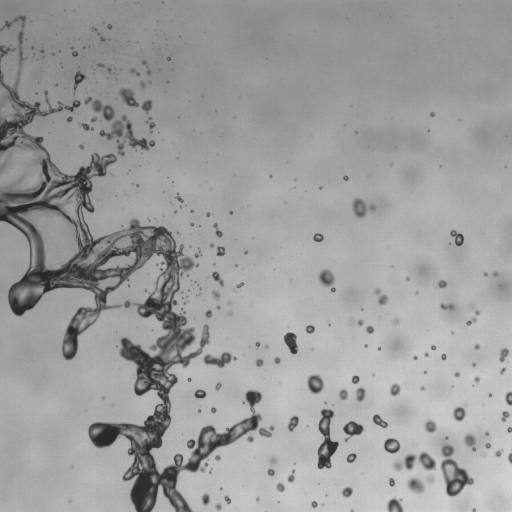droplet: (438, 444, 474, 497), (342, 420, 366, 442), (352, 198, 375, 218), (318, 268, 335, 293), (306, 374, 324, 394), (283, 332, 298, 355), (453, 402, 468, 421), (383, 438, 400, 453), (386, 497, 404, 511), (372, 414, 388, 428), (374, 288, 387, 305), (450, 230, 463, 246), (464, 434, 476, 451), (287, 415, 299, 431), (424, 419, 436, 433), (389, 383, 401, 396), (499, 347, 509, 362), (355, 386, 365, 401), (341, 486, 353, 498), (345, 452, 356, 464), (338, 388, 348, 401), (134, 92, 145, 103), (114, 99, 125, 110), (80, 103, 91, 114), (124, 105, 135, 116), (101, 120, 112, 131), (105, 141, 116, 152), (25, 148, 36, 159), (32, 172, 43, 183), (89, 174, 100, 185), (28, 177, 39, 188), (22, 180, 33, 191), (193, 211, 204, 222), (182, 246, 193, 257), (178, 275, 189, 286), (223, 275, 234, 286), (73, 286, 84, 297), (437, 288, 448, 299), (83, 290, 94, 301), (85, 296, 96, 307), (205, 298, 216, 309), (454, 301, 465, 312), (56, 326, 67, 337), (254, 347, 265, 358), (190, 356, 201, 367), (126, 360, 137, 371), (169, 363, 180, 374), (463, 368, 474, 379), (346, 383, 357, 394), (146, 388, 157, 399), (106, 413, 117, 424), (361, 417, 372, 428), (379, 428, 390, 439), (115, 434, 126, 445), (474, 435, 485, 446), (452, 439, 463, 450), (182, 449, 193, 460), (394, 450, 405, 461), (432, 452, 443, 463), (431, 466, 442, 477), (400, 468, 411, 479), (177, 469, 188, 480), (275, 471, 286, 482), (174, 480, 185, 491), (387, 487, 398, 498), (401, 487, 412, 498), (194, 389, 206, 399), (286, 469, 295, 482), (0, 35, 10, 46), (501, 410, 510, 422), (313, 232, 323, 242), (268, 455, 278, 465), (504, 391, 511, 405), (435, 280, 447, 288), (201, 493, 209, 505), (216, 246, 225, 256), (211, 290, 220, 300), (276, 482, 285, 492), (194, 247, 202, 258), (305, 324, 314, 333), (494, 448, 503, 457), (11, 22, 20, 31), (100, 27, 109, 36), (139, 72, 148, 81), (38, 102, 47, 111), (112, 111, 121, 120), (122, 143, 131, 152), (173, 235, 182, 244), (213, 237, 222, 246), (202, 289, 211, 298), (217, 296, 226, 305), (170, 304, 179, 313), (193, 329, 202, 338), (130, 336, 139, 345), (140, 343, 149, 352), (201, 345, 210, 354), (147, 348, 156, 357), (431, 349, 440, 358), (263, 356, 272, 365), (469, 367, 478, 376), (418, 375, 427, 384), (190, 381, 199, 390), (216, 425, 225, 434), (249, 428, 258, 437), (315, 433, 324, 442), (214, 445, 223, 454), (411, 447, 420, 456), (155, 463, 164, 472), (472, 376, 480, 386), (220, 504, 231, 511), (365, 325, 374, 333), (255, 358, 263, 367), (388, 477, 395, 487), (0, 176, 6, 187), (125, 505, 136, 511), (204, 505, 215, 511), (351, 375, 359, 383), (140, 80, 146, 90), (392, 318, 400, 325), (254, 341, 261, 349), (274, 356, 281, 364), (214, 382, 221, 390), (267, 468, 274, 476), (224, 495, 231, 503), (0, 86, 5, 97), (205, 310, 212, 317), (499, 367, 506, 374), (210, 406, 217, 413), (11, 39, 18, 46), (2, 40, 9, 47), (138, 66, 145, 73), (122, 68, 129, 75), (18, 93, 25, 100), (37, 95, 44, 102), (100, 99, 107, 106), (50, 101, 57, 108), (150, 101, 157, 108), (63, 109, 70, 116), (96, 110, 103, 117), (46, 113, 53, 120), (32, 114, 39, 121), (22, 124, 29, 131), (92, 128, 99, 135), (134, 133, 141, 140), (111, 147, 118, 154), (2, 149, 9, 156), (82, 160, 89, 167), (105, 164, 112, 171), (71, 167, 78, 174), (363, 198, 370, 205), (90, 199, 97, 206), (346, 204, 353, 211), (364, 209, 371, 216), (128, 212, 135, 219), (207, 216, 214, 223), (357, 216, 364, 223), (123, 221, 130, 228), (14, 274, 21, 281), (323, 285, 330, 292), (55, 286, 62, 293), (173, 292, 180, 299), (371, 294, 378, 301), (384, 299, 391, 306), (33, 302, 40, 309), (4, 304, 11, 311), (220, 304, 227, 311), (211, 308, 218, 315), (23, 309, 30, 316), (99, 309, 106, 316), (148, 313, 155, 320), (353, 313, 360, 320), (204, 317, 211, 324), (359, 324, 366, 331), (160, 328, 167, 335), (76, 333, 83, 340), (294, 337, 301, 344), (282, 344, 289, 351), (180, 349, 187, 356), (213, 351, 220, 358), (416, 351, 423, 358), (196, 353, 203, 360), (188, 357, 195, 364), (210, 363, 217, 370), (354, 381, 361, 388), (249, 384, 256, 391), (302, 384, 309, 391), (383, 385, 390, 392), (306, 390, 313, 397), (167, 391, 174, 398), (239, 393, 246, 400), (253, 402, 260, 409), (324, 403, 331, 410), (203, 407, 210, 414), (245, 410, 252, 417), (447, 412, 454, 419), (423, 414, 430, 421), (125, 417, 132, 424), (200, 420, 207, 427), (256, 420, 263, 427), (434, 422, 441, 429), (418, 424, 425, 431), (329, 434, 336, 441), (483, 435, 490, 442), (446, 438, 453, 445), (440, 439, 447, 446), (86, 440, 93, 447), (101, 445, 108, 452), (489, 445, 496, 452), (149, 447, 156, 454), (501, 451, 508, 458), (449, 453, 456, 460), (329, 454, 336, 461), (311, 456, 318, 463), (181, 457, 188, 464), (167, 458, 174, 465), (457, 461, 464, 468), (466, 470, 473, 477), (129, 476, 136, 483), (282, 479, 289, 486), (439, 481, 446, 488), (463, 483, 470, 490), (156, 485, 163, 492), (182, 493, 189, 500), (208, 497, 215, 504), (382, 497, 389, 504), (186, 499, 193, 506), (219, 499, 226, 506), (399, 500, 406, 507), (215, 503, 221, 511), (506, 351, 511, 360), (506, 404, 511, 413), (506, 416, 511, 425), (90, 116, 97, 122), (485, 442, 491, 449), (214, 454, 221, 460), (311, 501, 317, 508), (72, 51, 78, 57), (66, 116, 72, 122), (342, 175, 348, 181), (492, 271, 498, 277), (227, 310, 233, 316), (454, 371, 460, 377), (419, 385, 425, 391), (0, 219, 4, 228), (441, 353, 446, 360), (38, 48, 44, 53), (429, 112, 435, 117), (227, 301, 232, 307), (263, 344, 269, 349), (430, 345, 436, 350), (474, 344, 480, 349), (168, 507, 175, 511), (310, 507, 317, 511), (381, 507, 388, 511), (107, 24, 112, 29), (79, 144, 84, 149), (206, 212, 211, 217), (405, 276, 410, 281), (424, 352, 429, 357), (471, 362, 476, 367), (186, 377, 191, 382), (484, 431, 489, 436), (19, 10, 24, 15), (7, 16, 12, 21), (24, 18, 29, 23), (17, 19, 22, 24), (91, 30, 96, 35), (13, 32, 18, 37), (22, 32, 27, 37), (95, 35, 100, 40), (21, 40, 26, 45), (21, 52, 26, 57), (21, 60, 26, 65), (103, 62, 108, 67), (148, 64, 153, 69), (101, 66, 106, 71), (20, 68, 25, 73), (150, 68, 155, 73), (80, 69, 85, 74), (108, 73, 113, 78), (131, 73, 136, 78), (19, 75, 24, 80), (69, 78, 74, 83), (81, 78, 86, 83), (77, 81, 82, 86), (144, 82, 149, 87), (87, 91, 92, 96), (46, 92, 51, 97), (79, 98, 84, 103), (67, 101, 72, 106), (79, 102, 84, 107), (130, 105, 135, 110), (136, 105, 141, 110), (431, 107, 436, 112), (148, 108, 153, 113), (140, 109, 145, 114), (52, 111, 57, 116), (434, 111, 439, 116), (88, 121, 93, 126), (144, 123, 149, 128), (130, 125, 135, 130), (86, 129, 91, 134), (33, 132, 38, 137), (101, 135, 106, 140), (145, 137, 150, 142), (77, 139, 82, 144), (40, 141, 45, 146), (135, 144, 140, 149), (45, 146, 50, 151), (141, 148, 146, 153), (115, 153, 120, 158), (49, 156, 54, 161), (290, 180, 295, 185), (87, 191, 92, 196), (174, 199, 179, 204), (80, 206, 85, 211), (374, 206, 379, 211), (176, 207, 181, 212), (139, 221, 144, 226), (145, 221, 150, 226), (154, 222, 159, 227), (10, 225, 15, 230), (217, 225, 222, 230), (166, 226, 171, 231), (211, 227, 216, 232), (455, 228, 460, 233), (17, 230, 22, 235), (170, 231, 175, 236), (92, 235, 97, 240), (462, 238, 467, 243), (312, 240, 317, 245), (174, 246, 179, 251), (212, 247, 217, 252), (181, 248, 186, 253), (223, 248, 228, 253), (217, 255, 222, 260), (192, 257, 197, 262), (191, 265, 196, 270), (211, 266, 216, 271), (494, 266, 499, 271), (487, 271, 492, 276), (218, 273, 223, 278), (496, 273, 501, 278), (400, 274, 405, 279), (208, 275, 213, 280), (442, 276, 447, 281), (222, 279, 227, 284), (214, 280, 219, 285), (433, 280, 438, 285), (331, 282, 336, 287), (5, 284, 10, 289), (178, 285, 183, 290), (369, 287, 374, 292), (439, 287, 444, 292), (194, 288, 199, 293), (380, 289, 385, 294), (207, 292, 212, 297), (215, 300, 220, 305), (443, 300, 448, 305), (453, 303, 458, 308), (378, 304, 383, 309), (120, 305, 125, 310), (132, 305, 137, 310), (475, 305, 480, 310), (438, 307, 443, 312), (71, 308, 76, 313), (444, 308, 449, 313), (475, 314, 480, 319), (157, 320, 162, 325), (309, 320, 314, 325), (362, 322, 367, 327), (372, 325, 377, 330), (85, 327, 90, 332), (207, 327, 212, 332), (288, 327, 293, 332), (313, 327, 318, 332), (281, 330, 286, 335), (308, 332, 313, 337), (119, 333, 124, 338), (208, 335, 213, 340), (473, 339, 478, 344), (259, 340, 264, 345), (478, 342, 483, 347), (117, 343, 122, 348), (469, 344, 474, 349), (427, 348, 432, 353), (475, 348, 480, 353), (230, 351, 235, 356), (272, 352, 277, 357), (495, 352, 500, 357), (254, 354, 259, 359), (59, 355, 64, 360), (269, 357, 274, 362), (229, 358, 234, 363), (251, 358, 256, 363), (279, 358, 284, 363), (500, 361, 505, 366), (223, 362, 228, 367), (272, 362, 277, 367), (259, 364, 264, 369), (456, 367, 461, 372), (312, 370, 317, 375), (459, 371, 464, 376), (475, 371, 480, 376), (319, 374, 324, 379), (347, 374, 352, 379), (454, 376, 459, 381), (176, 377, 181, 382), (469, 378, 474, 383), (478, 379, 483, 384), (415, 383, 420, 388), (337, 385, 342, 390), (424, 385, 429, 390), (129, 387, 134, 392), (204, 388, 209, 393), (398, 388, 403, 393), (189, 391, 194, 396), (363, 392, 368, 397), (260, 393, 265, 398), (394, 393, 399, 398), (500, 393, 505, 398), (335, 395, 340, 400), (197, 397, 202, 402), (157, 398, 162, 403), (244, 401, 249, 406), (456, 402, 461, 407), (450, 405, 455, 410), (463, 407, 468, 412), (332, 409, 337, 414), (148, 410, 153, 415), (168, 411, 173, 416), (294, 411, 299, 416), (288, 412, 293, 417), (497, 412, 502, 417), (317, 413, 322, 418), (368, 413, 373, 418), (142, 415, 147, 420), (380, 415, 385, 420), (237, 416, 242, 421), (329, 416, 334, 421), (462, 416, 467, 421), (88, 419, 93, 424), (284, 419, 289, 424), (297, 419, 302, 424), (355, 419, 360, 424), (453, 419, 458, 424), (340, 421, 345, 426), (227, 422, 232, 427), (84, 423, 89, 428), (313, 424, 318, 429), (375, 424, 380, 429), (264, 425, 269, 430), (273, 425, 278, 430), (283, 425, 288, 430), (293, 425, 298, 430), (83, 427, 88, 432), (270, 430, 275, 435), (360, 430, 365, 435), (431, 430, 436, 435), (427, 431, 432, 436), (343, 432, 348, 437), (242, 433, 247, 438), (352, 433, 357, 438), (387, 433, 392, 438), (160, 434, 165, 439), (261, 435, 266, 440), (382, 435, 387, 440), (398, 440, 403, 445), (247, 441, 252, 446), (379, 441, 384, 446), (466, 445, 471, 450), (483, 447, 488, 452), (172, 449, 177, 454), (385, 451, 390, 456), (129, 454, 134, 459), (265, 454, 270, 459), (216, 459, 221, 464), (270, 464, 275, 469), (289, 464, 294, 469), (204, 466, 209, 471), (321, 466, 326, 471), (195, 468, 200, 473), (119, 470, 124, 475), (262, 470, 267, 475), (286, 470, 291, 475), (266, 474, 271, 479), (472, 478, 477, 483), (271, 483, 276, 488), (341, 483, 346, 488), (273, 488, 278, 493), (350, 491, 355, 496), (339, 494, 344, 499), (452, 494, 457, 499), (394, 495, 399, 500), (197, 497, 202, 502), (316, 502, 321, 507), (188, 222, 194, 226), (197, 407, 201, 413), (507, 427, 511, 433), (255, 496, 259, 502), (0, 19, 3, 26), (30, 45, 34, 50), (166, 56, 170, 61), (389, 162, 393, 167), (229, 210, 233, 215), (209, 243, 214, 247), (216, 305, 220, 310), (482, 453, 487, 457), (268, 174, 272, 178), (483, 272, 487, 276), (377, 346, 381, 350), (413, 355, 417, 359), (423, 370, 427, 374), (488, 393, 492, 397), (444, 436, 449, 439), (508, 387, 511, 392), (150, 508, 155, 511), (213, 508, 218, 511), (219, 508, 224, 511), (70, 46, 74, 49), (51, 52, 55, 55), (54, 83, 58, 86), (135, 184, 139, 187), (318, 186, 322, 189), (174, 209, 177, 213), (190, 209, 194, 212), (147, 217, 150, 221), (176, 231, 180, 234), (244, 250, 247, 254), (234, 264, 238, 267), (187, 288, 190, 292), (415, 290, 418, 294), (360, 307, 363, 311), (450, 331, 454, 334), (310, 347, 313, 351), (372, 373, 375, 377), (101, 396, 105, 399), (68, 499, 71, 503), (321, 502, 324, 506), (472, 508, 476, 511), (0, 40, 2, 45), (42, 56, 45, 59), (166, 80, 169, 83), (458, 118, 461, 121), (427, 129, 430, 132), (355, 131, 358, 134), (294, 178, 297, 181), (448, 242, 451, 245), (212, 263, 215, 266), (127, 284, 130, 287), (286, 325, 289, 328), (364, 344, 367, 347), (324, 401, 327, 404), (306, 424, 309, 427), (219, 487, 222, 490), (104, 22, 107, 25), (93, 24, 96, 27), (111, 25, 114, 28), (104, 26, 107, 29), (104, 39, 107, 42), (101, 40, 104, 43), (68, 43, 71, 46), (85, 43, 88, 46), (39, 46, 42, 49), (84, 47, 87, 50), (32, 48, 35, 51), (71, 48, 74, 51), (52, 49, 55, 52), (60, 49, 63, 52), (55, 51, 58, 54), (77, 51, 80, 54), (41, 52, 44, 55), (68, 52, 71, 55), (166, 53, 169, 56), (76, 54, 79, 57), (51, 55, 54, 58), (70, 55, 73, 58), (170, 56, 173, 59), (163, 58, 166, 61), (100, 60, 103, 63), (167, 60, 170, 63), (145, 62, 148, 65), (57, 64, 60, 67), (93, 64, 96, 67), (109, 65, 112, 68), (98, 66, 101, 69), (115, 66, 118, 69), (72, 72, 75, 75), (53, 80, 56, 83), (57, 82, 60, 85), (54, 85, 57, 88), (44, 87, 47, 90), (34, 88, 37, 91), (91, 97, 94, 100), (58, 98, 61, 101), (427, 111, 430, 114), (431, 116, 434, 119), (71, 118, 74, 121), (67, 121, 70, 124), (151, 127, 154, 130), (424, 127, 427, 130), (356, 128, 359, 131), (429, 128, 432, 131), (425, 131, 428, 134), (355, 133, 358, 136), (154, 142, 157, 145), (83, 145, 86, 148), (76, 146, 79, 149), (90, 151, 93, 154), (438, 167, 441, 170), (503, 167, 506, 170), (128, 171, 131, 174), (268, 171, 271, 174), (271, 172, 274, 175), (347, 174, 350, 177), (266, 176, 269, 179), (271, 176, 274, 179), (171, 177, 174, 180), (168, 179, 171, 182), (342, 179, 345, 182), (346, 179, 349, 182), (133, 181, 136, 184), (171, 182, 174, 185), (138, 183, 141, 186), (317, 183, 320, 186), (132, 184, 135, 187), (91, 186, 94, 189), (321, 187, 324, 190), (316, 188, 319, 191), (173, 193, 176, 196), (190, 206, 193, 209), (93, 207, 96, 210), (171, 208, 174, 211), (206, 208, 209, 211), (227, 208, 230, 211), (191, 211, 194, 214), (232, 211, 235, 214), (203, 212, 206, 215), (227, 213, 230, 216), (208, 215, 211, 218), (191, 219, 194, 222), (187, 223, 190, 226), (193, 223, 196, 226), (87, 224, 90, 227), (118, 227, 121, 230), (447, 229, 450, 232), (313, 230, 316, 233), (317, 230, 320, 233), (461, 232, 464, 235), (213, 233, 216, 236), (220, 235, 223, 238), (322, 235, 325, 238), (310, 236, 313, 239), (206, 242, 209, 245), (218, 243, 221, 246), (26, 246, 29, 249), (242, 248, 245, 251), (200, 250, 203, 253), (247, 250, 250, 253), (26, 252, 29, 255), (234, 260, 237, 263), (198, 263, 201, 266), (231, 263, 234, 266), (237, 264, 240, 267), (233, 266, 236, 269), (484, 269, 487, 272), (209, 271, 212, 274), (480, 272, 483, 275), (182, 273, 185, 276), (408, 275, 411, 278), (242, 279, 245, 282), (196, 280, 199, 283), (407, 280, 410, 283), (236, 281, 239, 284), (193, 282, 196, 285), (243, 282, 246, 285), (199, 283, 202, 286), (233, 284, 236, 287), (240, 285, 243, 288), (189, 287, 192, 290), (235, 287, 238, 290), (335, 287, 338, 290), (199, 289, 202, 292), (331, 291, 334, 294), (187, 296, 190, 299), (183, 298, 186, 301), (360, 304, 363, 307), (219, 306, 222, 309), (357, 306, 360, 309), (204, 308, 207, 311), (467, 317, 470, 320), (324, 322, 327, 325), (470, 322, 473, 325), (330, 323, 333, 326), (449, 328, 452, 331), (303, 329, 306, 332), (372, 330, 375, 333), (447, 331, 450, 334), (306, 332, 309, 335), (369, 332, 372, 335), (451, 333, 454, 336), (364, 340, 367, 343), (267, 342, 270, 345), (361, 342, 364, 345), (252, 343, 255, 346), (377, 343, 380, 346), (367, 344, 370, 347), (258, 345, 261, 348), (374, 346, 377, 349), (380, 346, 383, 349), (435, 346, 438, 349), (377, 350, 380, 353), (442, 350, 445, 353), (415, 353, 418, 356), (235, 355, 238, 358), (445, 355, 448, 358), (425, 356, 428, 359), (438, 356, 441, 359), (413, 359, 416, 362), (472, 359, 475, 362), (475, 363, 478, 366), (469, 364, 472, 367), (255, 365, 258, 368), (423, 367, 426, 370), (498, 367, 501, 370), (426, 369, 429, 372), (503, 370, 506, 373), (420, 371, 423, 374), (451, 371, 454, 374), (354, 372, 357, 375), (423, 373, 426, 376), (184, 376, 187, 379), (190, 376, 193, 379), (358, 377, 361, 380), (184, 379, 187, 382), (190, 379, 193, 382), (220, 381, 223, 384), (213, 382, 216, 385), (468, 383, 471, 386), (199, 386, 202, 389), (219, 386, 222, 389), (451, 387, 454, 390), (422, 389, 425, 392), (489, 390, 492, 393), (485, 394, 488, 397), (490, 395, 493, 398), (101, 399, 104, 402), (208, 405, 211, 408), (215, 407, 218, 410), (194, 409, 197, 412), (200, 410, 203, 413), (209, 411, 212, 414), (214, 411, 217, 414), (386, 425, 389, 428), (484, 428, 487, 431), (505, 430, 508, 433), (444, 432, 447, 435), (488, 432, 491, 435), (183, 441, 186, 444), (489, 441, 492, 444), (352, 450, 355, 453), (355, 453, 358, 456), (354, 457, 357, 460), (343, 458, 346, 461), (291, 459, 294, 462), (350, 461, 353, 464), (273, 472, 276, 475), (119, 475, 122, 478), (386, 479, 389, 482), (393, 479, 396, 482), (319, 481, 322, 484), (393, 483, 396, 486), (216, 486, 219, 489), (222, 486, 225, 489), (326, 491, 329, 494), (228, 495, 231, 498), (253, 495, 256, 498), (258, 495, 261, 498), (310, 498, 313, 501), (314, 498, 317, 501), (230, 499, 233, 502), (258, 499, 261, 502), (279, 500, 282, 503), (276, 502, 279, 505), (309, 505, 312, 508), (328, 322, 330, 326), (350, 509, 354, 511), (102, 21, 105, 23), (127, 40, 129, 43), (149, 81, 151, 84), (176, 157, 179, 159), (439, 165, 442, 167), (131, 182, 133, 185), (162, 190, 164, 193), (179, 205, 181, 208), (198, 224, 200, 227), (252, 237, 255, 239), (293, 462, 295, 465), (325, 493, 327, 496), (509, 424, 511, 427), (509, 431, 511, 434), (346, 509, 349, 511), (353, 509, 356, 511), (469, 509, 472, 511), (475, 509, 478, 511), (36, 58, 38, 60), (35, 92, 37, 94), (504, 165, 506, 167), (157, 169, 159, 171), (293, 186, 295, 188), (115, 194, 117, 196), (121, 225, 123, 227), (189, 245, 191, 247), (391, 265, 393, 267), (206, 276, 208, 278), (115, 345, 117, 347), (451, 385, 453, 387), (317, 483, 319, 485), (61, 66, 62, 68), (37, 82, 39, 83), (158, 131, 159, 133), (167, 176, 168, 178), (152, 329, 153, 331), (248, 346, 250, 347), (277, 501, 279, 502)
ligament: (84, 96, 155, 156), (316, 407, 338, 469), (118, 88, 151, 114), (201, 351, 237, 368), (73, 70, 87, 96), (466, 302, 480, 325), (91, 26, 110, 42), (211, 271, 223, 287), (346, 317, 364, 327), (141, 59, 151, 75), (194, 280, 203, 297), (78, 121, 93, 130), (213, 222, 222, 237), (93, 62, 104, 73), (232, 282, 244, 292), (439, 302, 454, 310), (128, 67, 140, 76), (175, 192, 183, 203), (507, 448, 511, 464), (208, 467, 213, 474), (82, 45, 90, 49), (126, 170, 130, 174), (110, 173, 114, 175), (58, 50, 60, 52)
